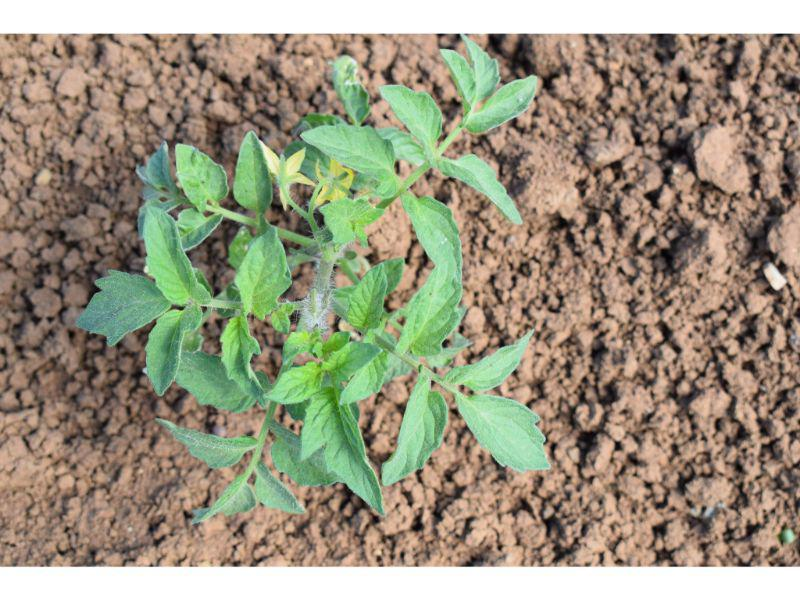tomato: (80, 34, 551, 523)
